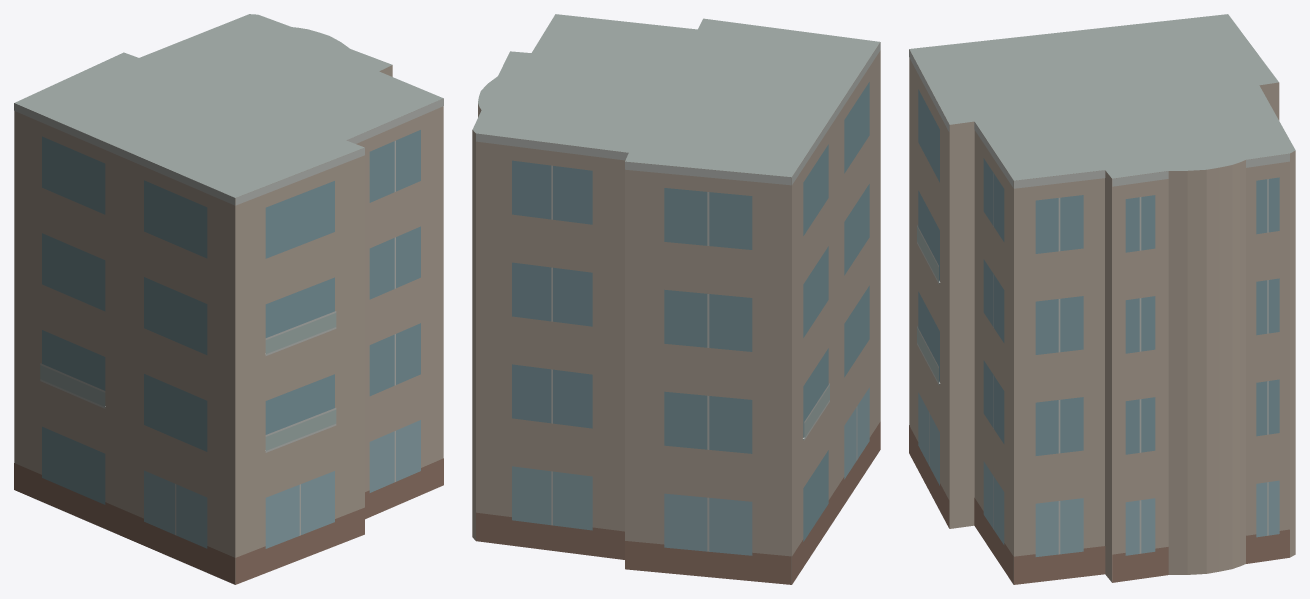
Rendered from survey-upis-32810889.glb.
3 renders of one model, left to right at view 1: azimuth 30°, elevation 25°; view 2: azimuth 150°, elevation 25°; view 3: azimuth 270°, elevation 25°, orthographic. The views are drawn at different scales.
Visible parts, largest first — view 1: survey-upis-32810889.tmp; view 2: survey-upis-32810889.tmp; view 3: survey-upis-32810889.tmp.
Boxes of the visible parts, x1,y1,x2,y2 form: survey-upis-32810889.tmp: (14, 14, 443, 584); survey-upis-32810889.tmp: (472, 14, 880, 584); survey-upis-32810889.tmp: (909, 14, 1295, 584).
Bounding box in the file's own units: 10.8 × 12.2 × 10.59.
